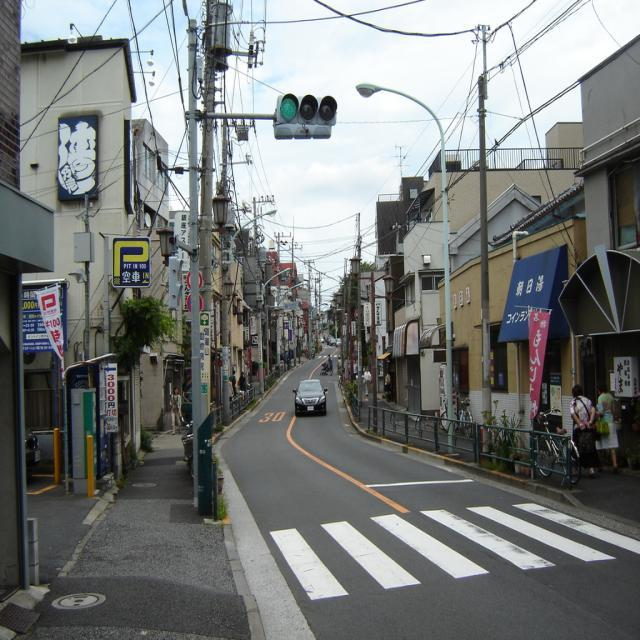traffic light: (274, 96, 338, 124)
